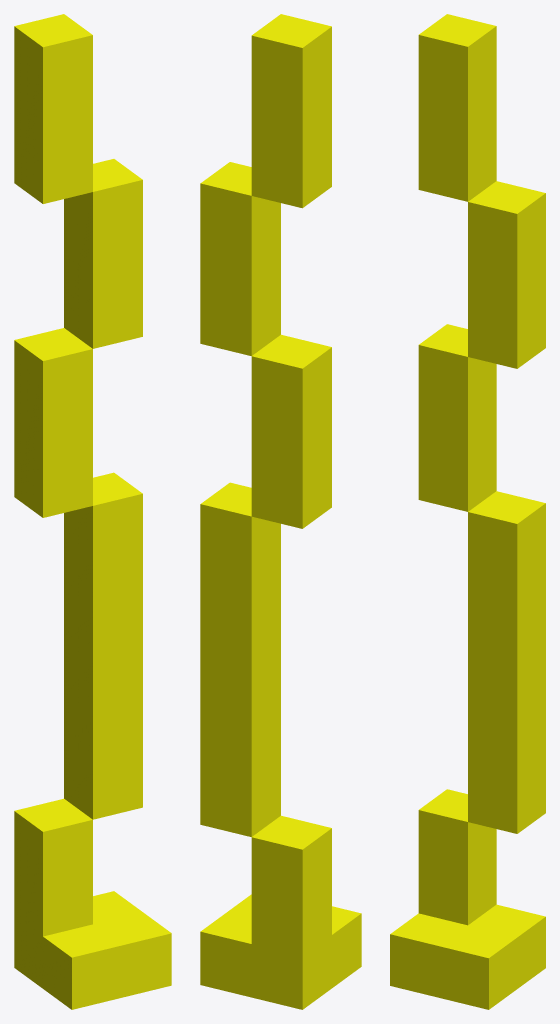
Rendered from voxel-wizards-wand.glb.
3 views of the same model, side by side, from view 1: azimuth 30°, elevation 25°; view 2: azimuth 150°, elevation 25°; view 3: azimuth 330°, elevation 25° (orthographic). The views are drawn at different scales.
Visible parts, largest first — view 1: VS_Wizards_Wand; view 2: VS_Wizards_Wand; view 3: VS_Wizards_Wand.
Boxes of the visible parts, <box> form: VS_Wizards_Wand: <box>14,14,171,1009</box>; VS_Wizards_Wand: <box>200,14,361,1009</box>; VS_Wizards_Wand: <box>390,14,545,1009</box>.
Size of the model in its own units: 0.2 by 1.8 by 0.2.
